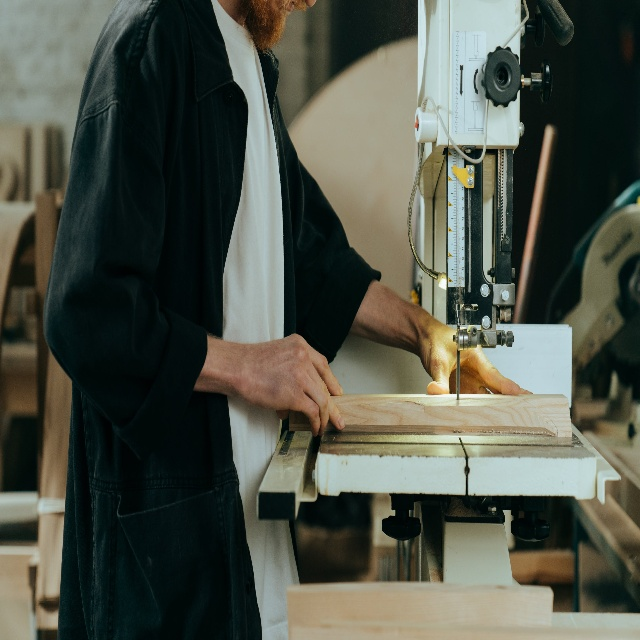Sin_guantes: (246, 333, 348, 436), (419, 308, 529, 396)
